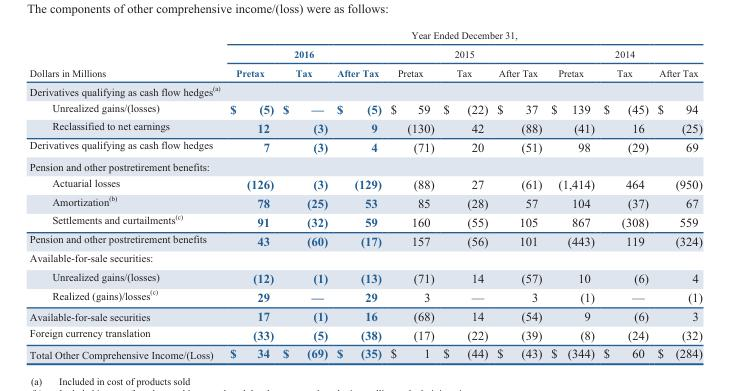table: (28, 29, 701, 360)
table column: (28, 29, 220, 360), (220, 29, 277, 360), (277, 29, 331, 360), (331, 29, 385, 360), (491, 29, 545, 360), (598, 29, 652, 360), (385, 29, 438, 360), (438, 29, 491, 360), (545, 29, 598, 360), (652, 29, 701, 360)
table column header: (28, 29, 701, 80)
table projected row header: (28, 80, 701, 99), (28, 156, 701, 174), (28, 249, 701, 266)
table row: (28, 136, 701, 156), (28, 266, 701, 286), (28, 286, 701, 306), (28, 44, 701, 63), (28, 80, 701, 99), (28, 117, 701, 136), (28, 192, 701, 211), (28, 211, 701, 230), (28, 230, 701, 249), (28, 324, 701, 343), (28, 99, 701, 117), (28, 156, 701, 174), (28, 174, 701, 192), (28, 306, 701, 324), (28, 63, 701, 80), (28, 249, 701, 266), (28, 343, 701, 360), (28, 29, 701, 44)
table spanning cell: (28, 29, 220, 80), (331, 29, 598, 44), (220, 44, 385, 63), (385, 44, 545, 63), (545, 44, 701, 63)
